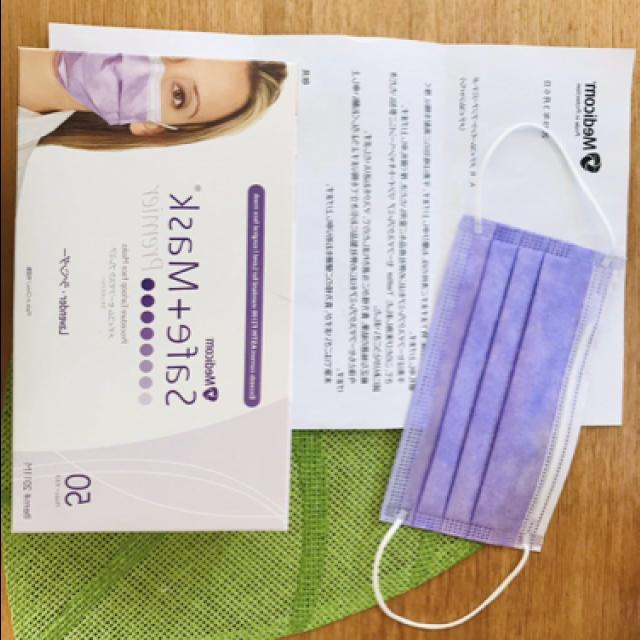with_mask: (52, 52, 204, 126)
